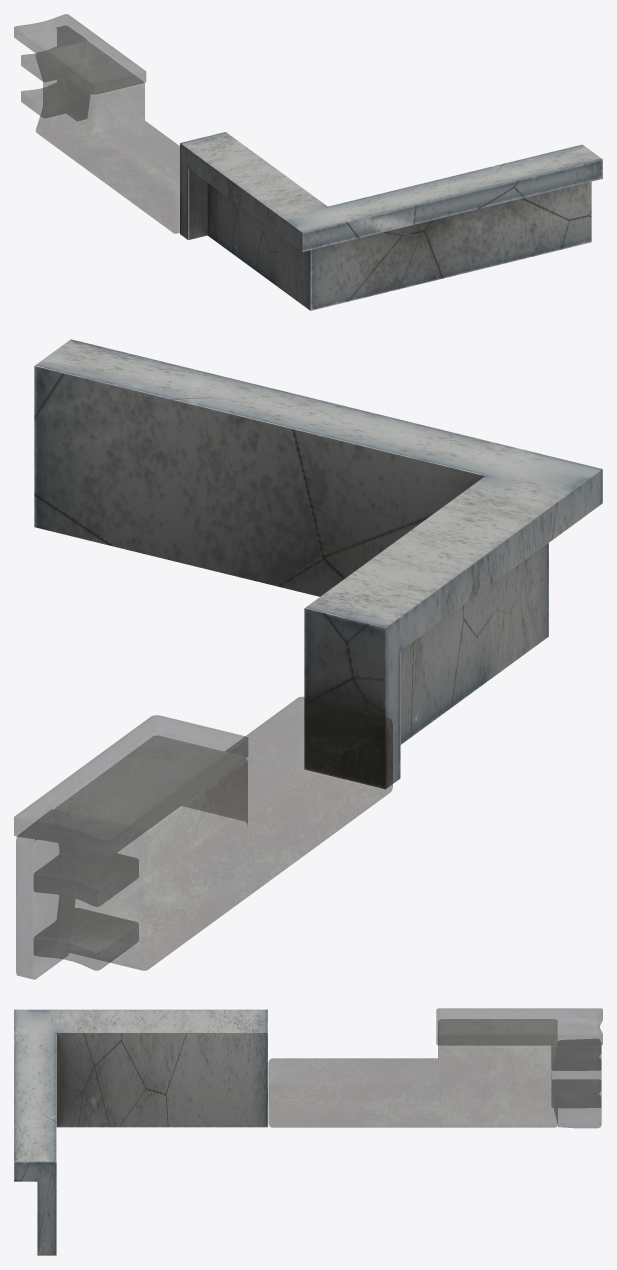
The model's file is Barras_V2_Armada.glb.
3 renders of one model, top to bottom at view 1: azimuth 30°, elevation 25°; view 2: azimuth 150°, elevation 25°; view 3: azimuth 270°, elevation 25°, orthographic. The views are drawn at different scales.
Parts seen in each view (by area): view 1: Barra_Pedidos_V2.001, Barra_Principal_V2.001; view 2: Barra_Pedidos_V2.001, Barra_Principal_V2.001; view 3: Barra_Pedidos_V2.001, Barra_Principal_V2.001.
Boxes of the visible parts, <box> form: Barra_Pedidos_V2.001: <box>180,132,602,310</box>; Barra_Principal_V2.001: <box>14,14,179,233</box>; Barra_Pedidos_V2.001: <box>34,339,602,789</box>; Barra_Principal_V2.001: <box>14,697,392,979</box>; Barra_Pedidos_V2.001: <box>14,1009,267,1255</box>; Barra_Principal_V2.001: <box>268,1008,602,1127</box>.
Bounding box in the file's own units: 4.56 × 1.3 × 7.33.
3 materials, 3 textured.
